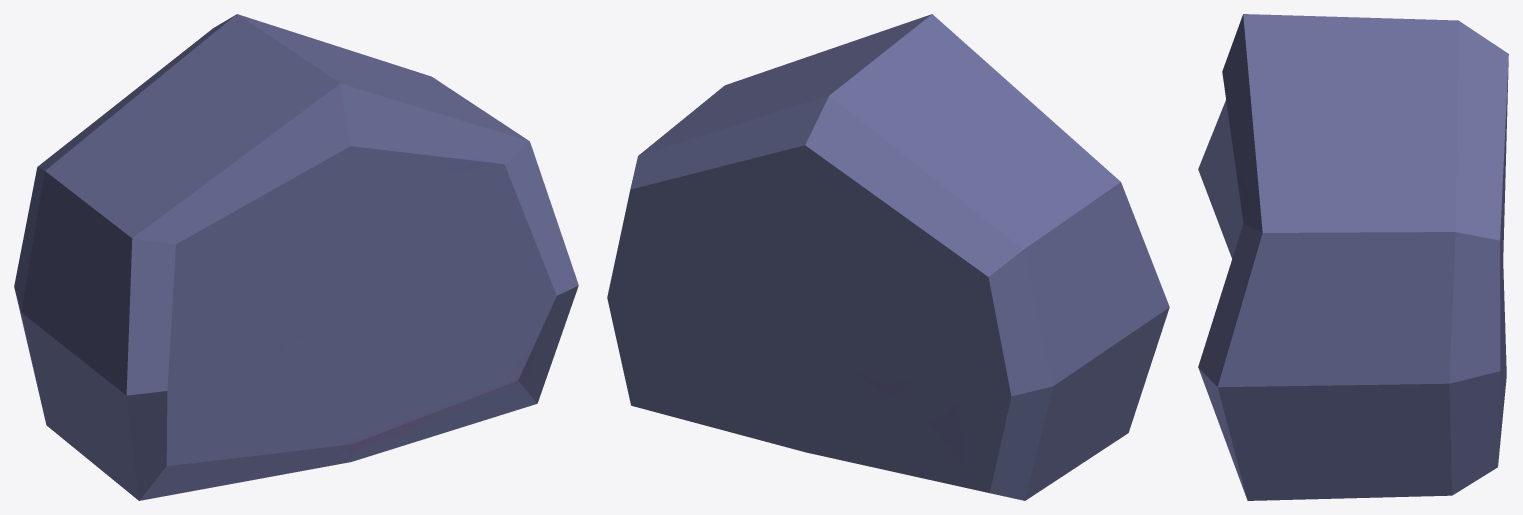
The model's file is beetle_corpse_upper_body.glb.
The picture shows the model from 3 angles, left to right: view 1: azimuth 30°, elevation 25°; view 2: azimuth 150°, elevation 25°; view 3: azimuth 270°, elevation 25°; orthographic projection. The views are drawn at different scales.
Parts seen in each view (by area): view 1: BeetleCorpseUpperBody; view 2: BeetleCorpseUpperBody; view 3: BeetleCorpseUpperBody.
Boxes of the visible parts, bbox=[...] form: BeetleCorpseUpperBody: bbox=[14, 14, 578, 500]; BeetleCorpseUpperBody: bbox=[607, 14, 1169, 500]; BeetleCorpseUpperBody: bbox=[1198, 14, 1508, 500].
Bounding box in the file's own units: 0.5521 × 0.4322 × 0.3155.
1 material, 1 textured.
